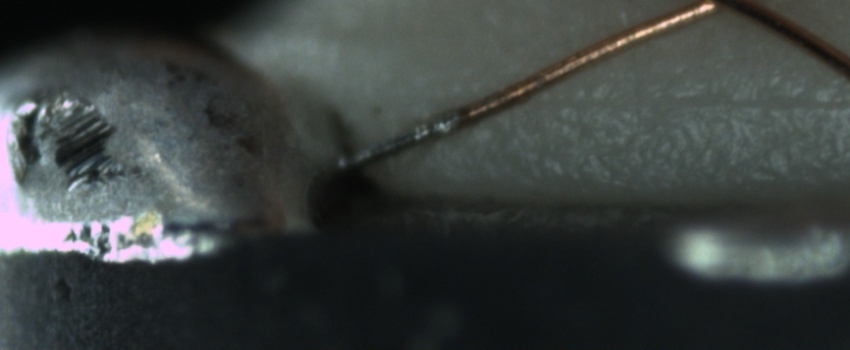CL: (681, 0, 765, 20)
DL: (519, 72, 850, 131)
TS: (330, 110, 461, 171)
TTCW: (336, 94, 511, 173)
